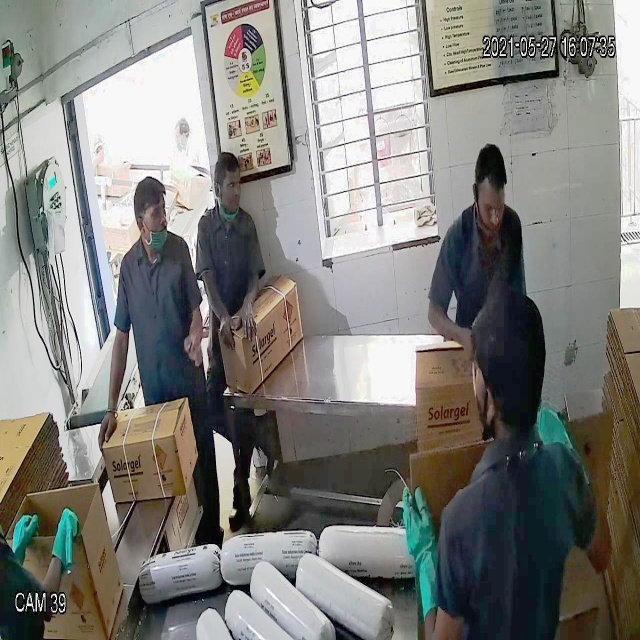Sin_gafas: (128, 196, 176, 232), (471, 185, 509, 224)
